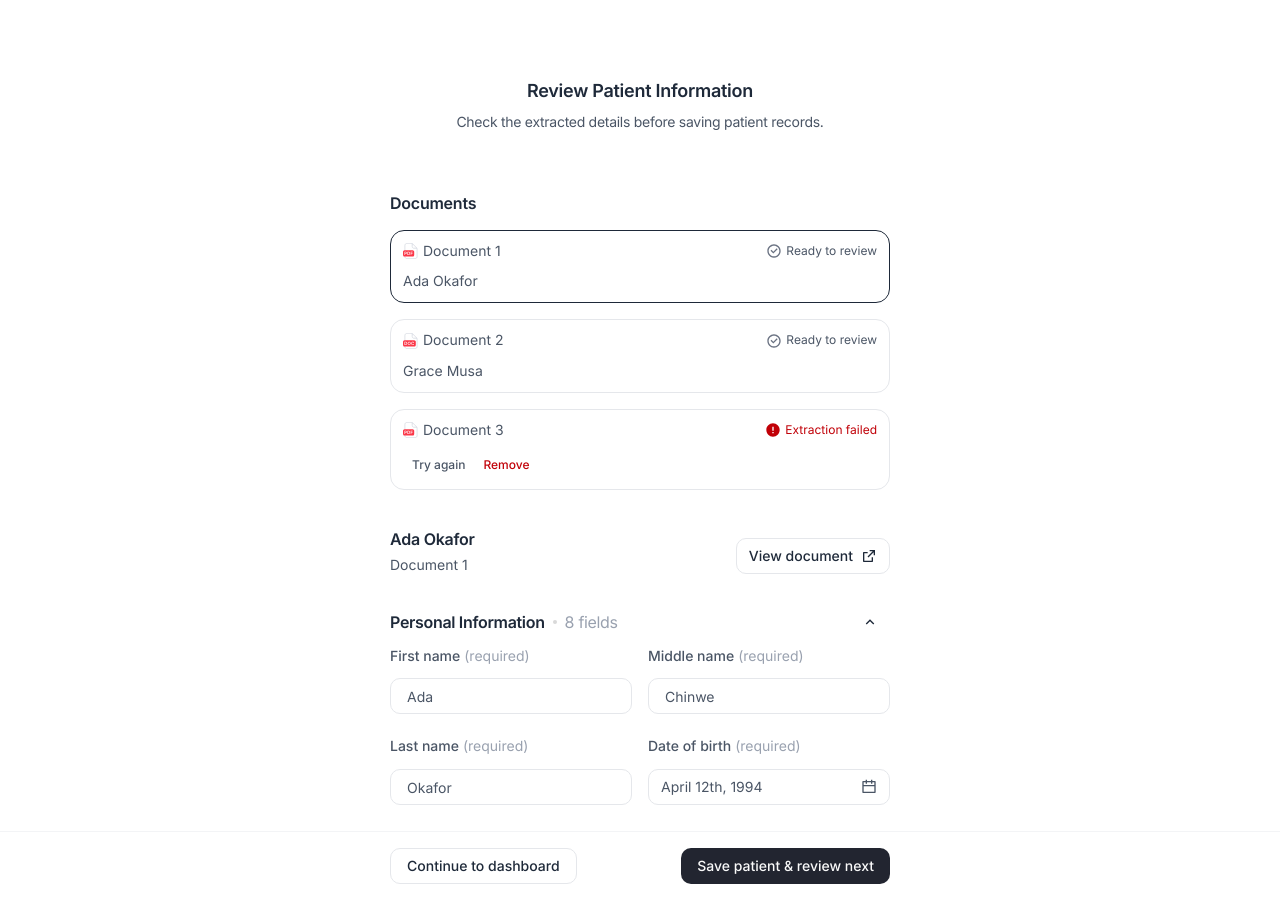
Test case: saves the edited patient, removes its document from review and moves to the next ready document
The width and height of the screenshot is (1280, 900).
Replace the text in the field labelled "First name (required)" with "Adanna" at (511, 696), box [390, 678, 632, 714]
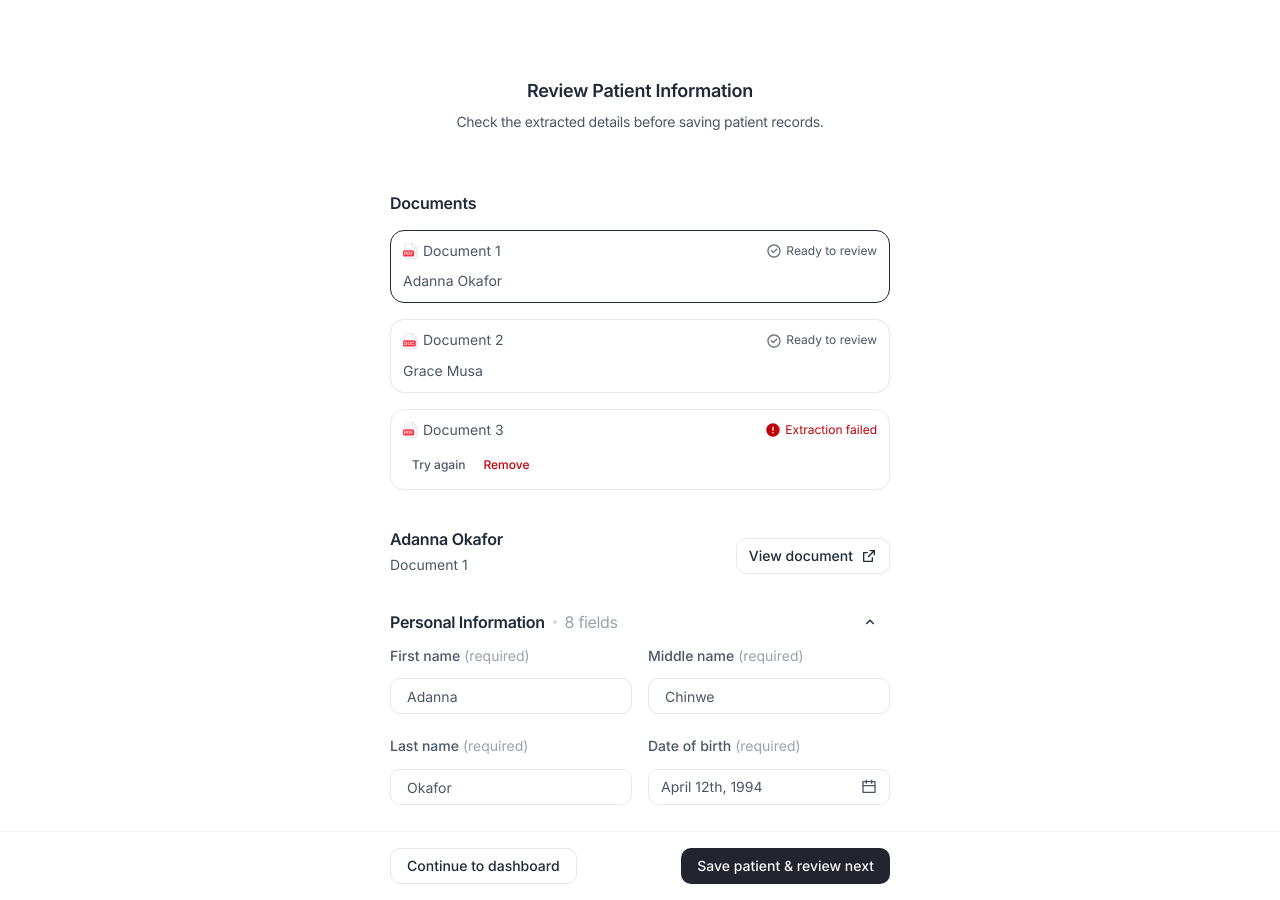
Click the button named "Review Document 2" at (640, 356), box [391, 320, 889, 392]
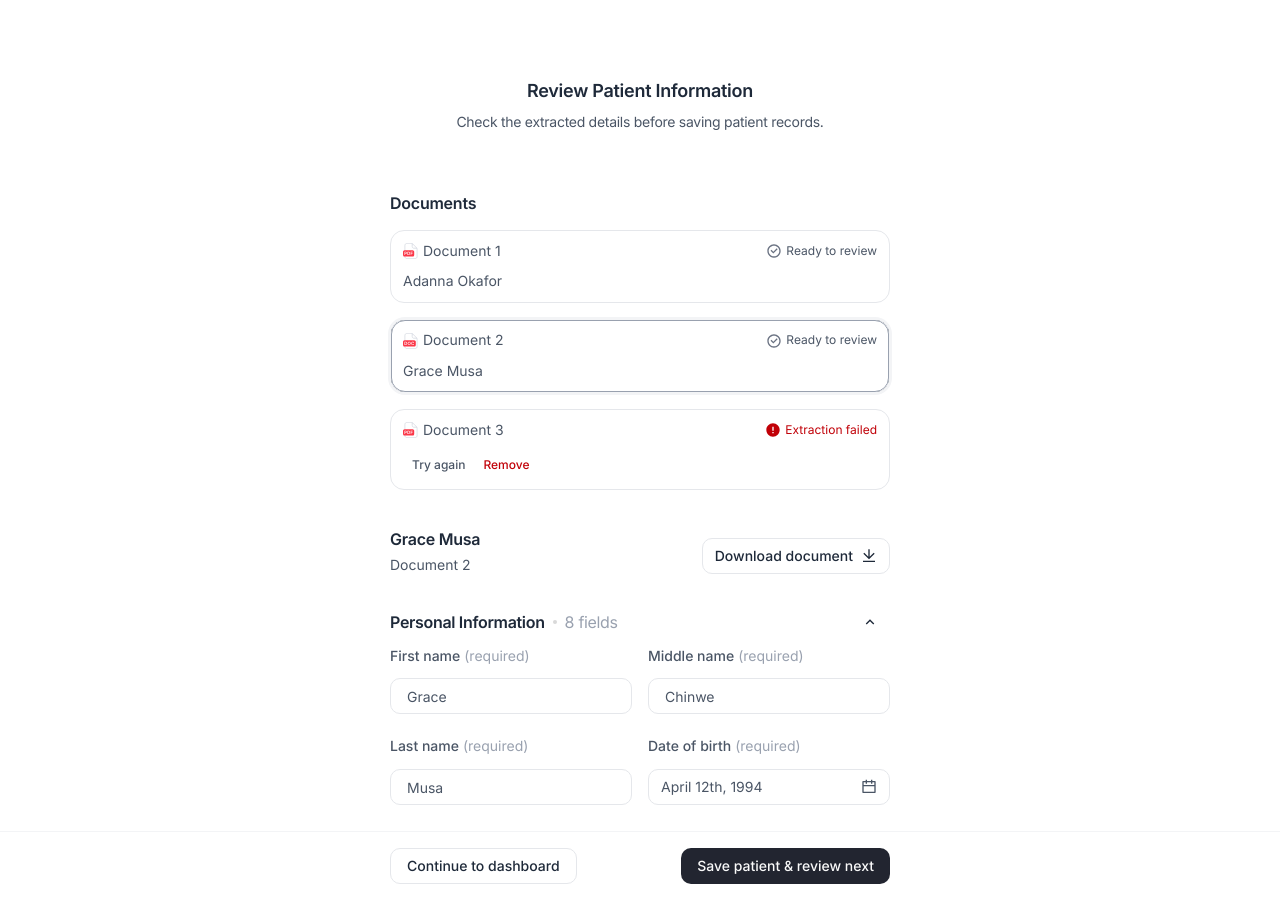
Click the button named "Review Document 1" at (640, 266), box [391, 231, 889, 302]
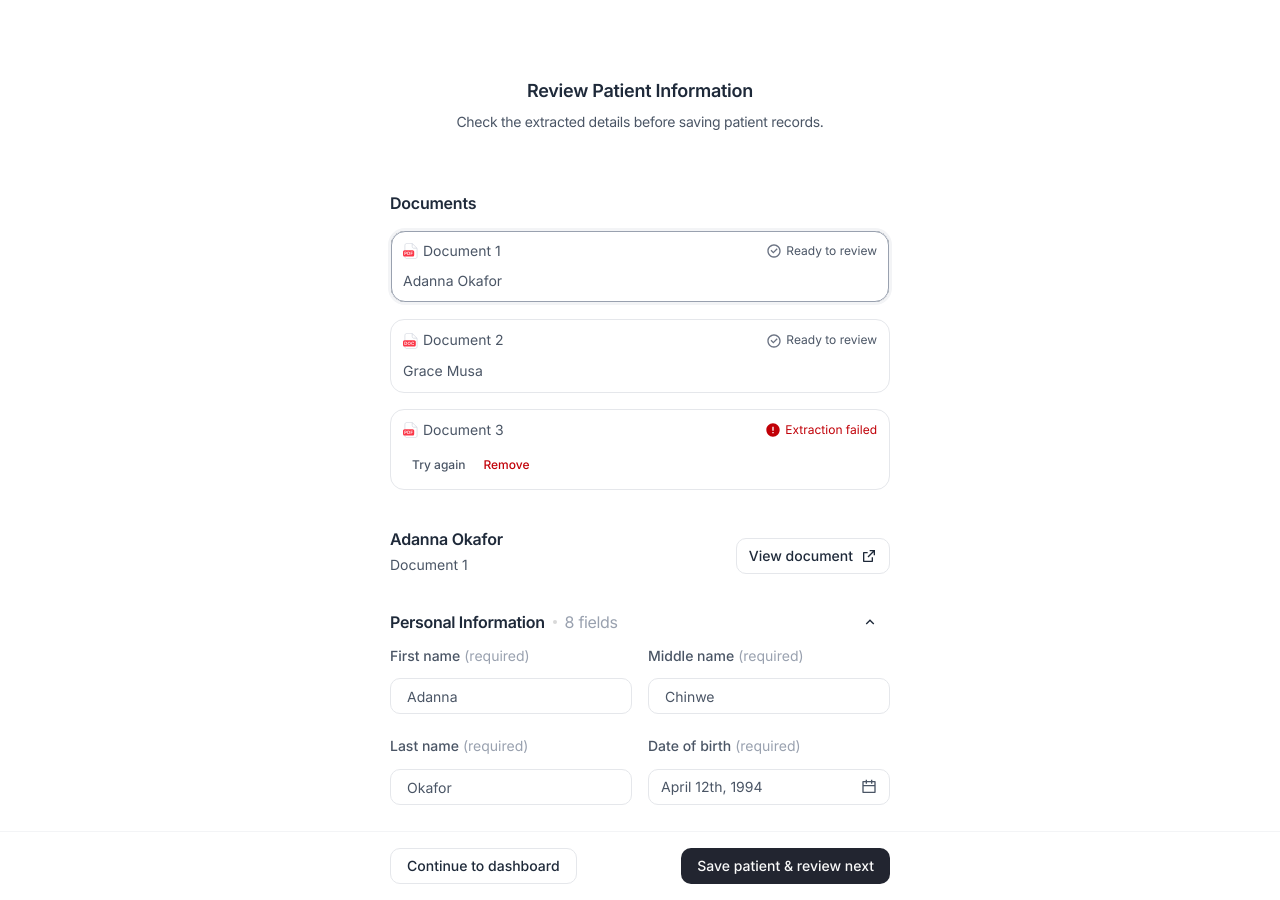
Click the button "Save patient & review next" at (786, 866), box [681, 848, 890, 884]
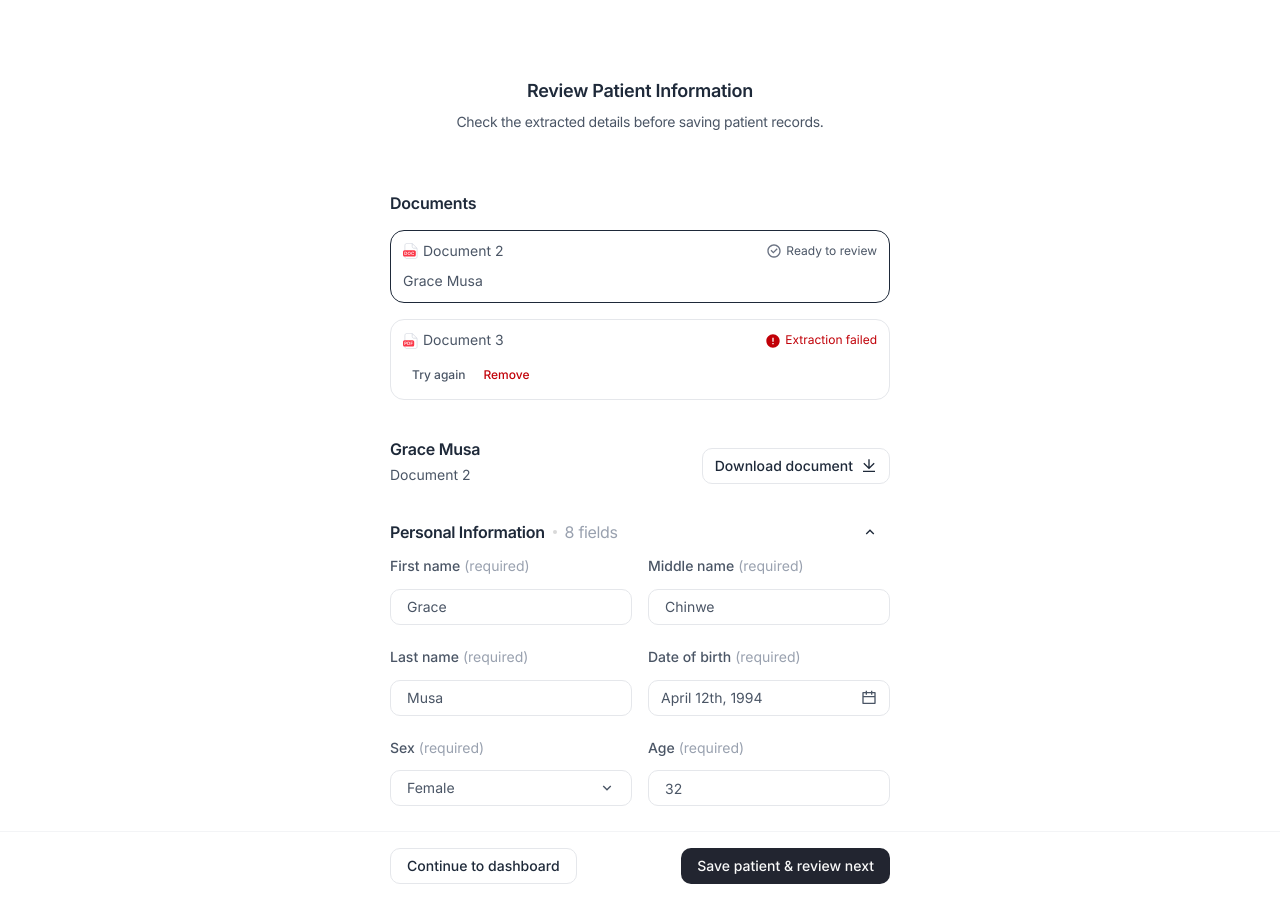
Expected: the text "Document 1" is gone
Expected: the heading "Grace Musa" is shown, [390, 440, 480, 459]
